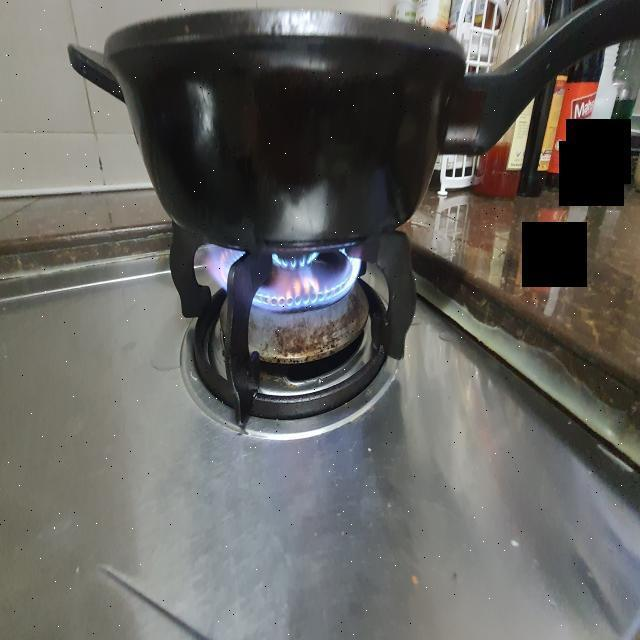Flame: (201, 242, 373, 319)
Pan: (60, 14, 482, 261)
